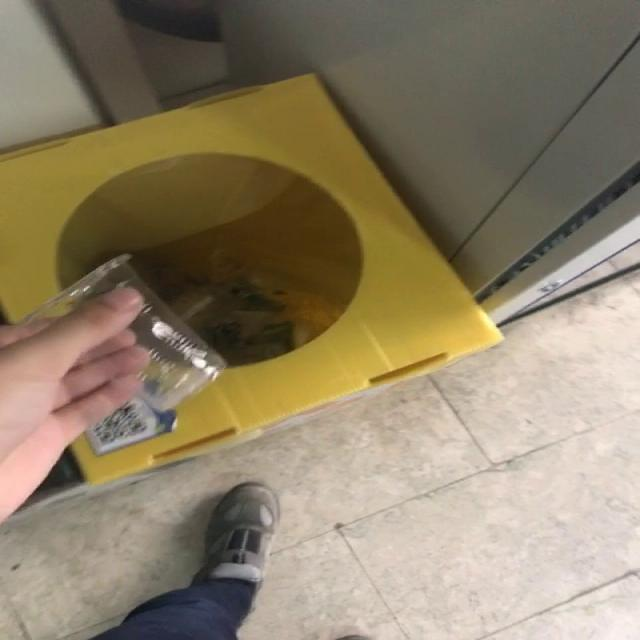plastic: (23, 254, 225, 410)
